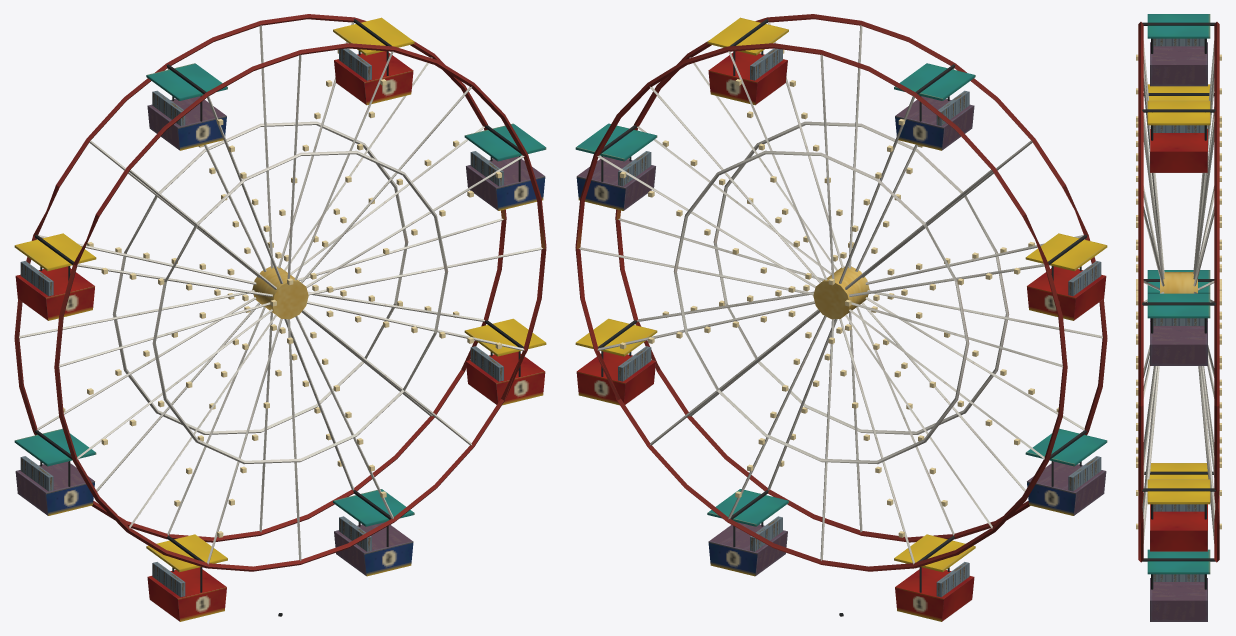
The model's file is ferris_wheel_ring.obj.
The picture shows the model from 3 angles, left to right: view 1: azimuth 30°, elevation 25°; view 2: azimuth 150°, elevation 25°; view 3: azimuth 270°, elevation 25°; orthographic projection. The views are drawn at different scales.
Visible parts, largest first — view 1: ferris_wheel_ring_spokes, ferris_wheel_ring_car_4, ferris_wheel_ring_car_5, ferris_wheel_ring_car_6, ferris_wheel_ring_car_2, ferris_wheel_ring_car_8, ferris_wheel_ring_car_3, ferris_wheel_ring_car_7, ferris_wheel_ring_car_1, ferris_wheel_ring_bulbs; view 2: ferris_wheel_ring_spokes, ferris_wheel_ring_car_4, ferris_wheel_ring_car_5, ferris_wheel_ring_car_6, ferris_wheel_ring_car_2, ferris_wheel_ring_car_8, ferris_wheel_ring_car_3, ferris_wheel_ring_car_7, ferris_wheel_ring_car_1, ferris_wheel_ring_bulbs; view 3: ferris_wheel_ring_spokes, ferris_wheel_ring_car_1, ferris_wheel_ring_car_8, ferris_wheel_ring_car_2, ferris_wheel_ring_car_3, ferris_wheel_ring_car_7, ferris_wheel_ring_bulbs, ferris_wheel_ring_car_6, ferris_wheel_ring_car_4, ferris_wheel_ring_car_5.
Part boxes in pixels (left/top/right/bottom): ferris_wheel_ring_spokes: left=14, top=14, right=546, bottom=571; ferris_wheel_ring_car_4: left=14, top=233, right=96, bottom=320; ferris_wheel_ring_car_5: left=14, top=428, right=96, bottom=515; ferris_wheel_ring_car_6: left=146, top=534, right=227, bottom=621; ferris_wheel_ring_car_2: left=333, top=17, right=414, bottom=105; ferris_wheel_ring_car_8: left=464, top=318, right=546, bottom=405; ferris_wheel_ring_car_3: left=146, top=63, right=227, bottom=150; ferris_wheel_ring_car_7: left=333, top=489, right=414, bottom=576; ferris_wheel_ring_car_1: left=464, top=123, right=546, bottom=210; ferris_wheel_ring_bulbs: left=63, top=49, right=501, bottom=537; ferris_wheel_ring_spokes: left=575, top=14, right=1107, bottom=571; ferris_wheel_ring_car_4: left=1025, top=233, right=1107, bottom=320; ferris_wheel_ring_car_5: left=1025, top=428, right=1107, bottom=515; ferris_wheel_ring_car_6: left=894, top=534, right=975, bottom=621; ferris_wheel_ring_car_2: left=707, top=17, right=788, bottom=105; ferris_wheel_ring_car_8: left=575, top=318, right=657, bottom=405; ferris_wheel_ring_car_3: left=894, top=63, right=975, bottom=150; ferris_wheel_ring_car_7: left=707, top=489, right=788, bottom=576; ferris_wheel_ring_car_1: left=575, top=123, right=657, bottom=210; ferris_wheel_ring_bulbs: left=620, top=49, right=1058, bottom=537; ferris_wheel_ring_spokes: left=1138, top=22, right=1219, bottom=562; ferris_wheel_ring_car_1: left=1142, top=293, right=1215, bottom=365; ferris_wheel_ring_car_8: left=1142, top=479, right=1215, bottom=551; ferris_wheel_ring_car_2: left=1142, top=100, right=1215, bottom=172; ferris_wheel_ring_car_3: left=1142, top=14, right=1215, bottom=86; ferris_wheel_ring_car_7: left=1142, top=549, right=1215, bottom=621; ferris_wheel_ring_bulbs: left=1136, top=54, right=1221, bottom=529; ferris_wheel_ring_car_6: left=1144, top=463, right=1213, bottom=507; ferris_wheel_ring_car_4: left=1143, top=84, right=1214, bottom=100; ferris_wheel_ring_car_5: left=1143, top=270, right=1214, bottom=321.
Bounding box in the file's own units: 12.3 × 13.66 × 1.92.
1 material, 1 textured.
